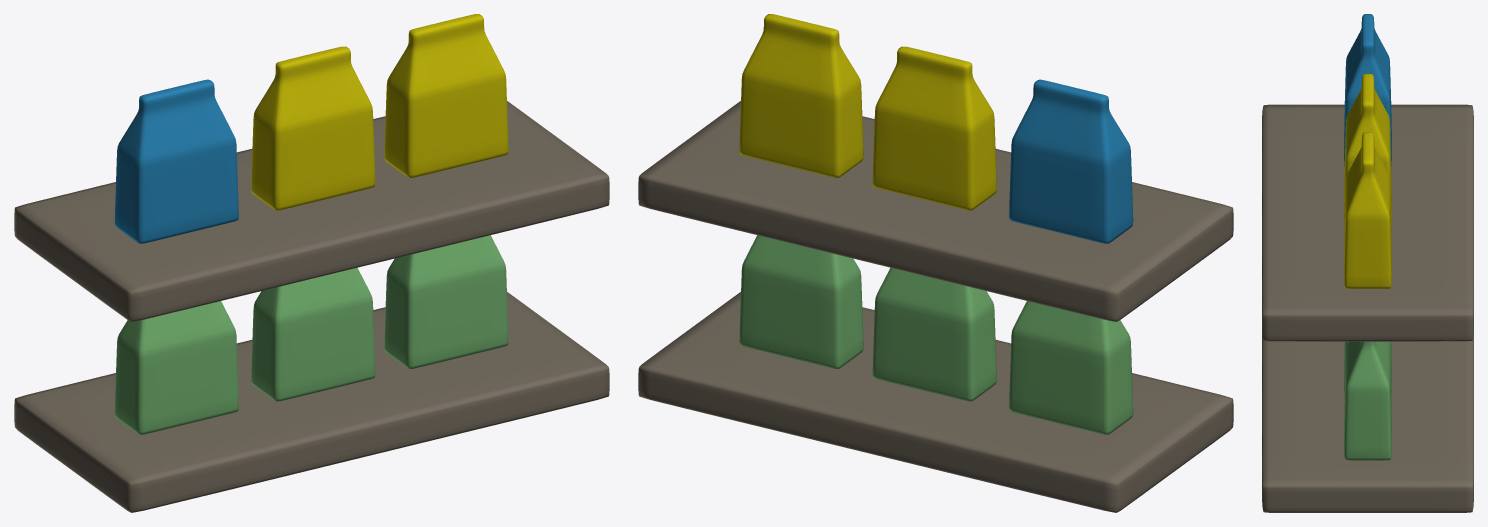
The model's file is snacks1.fbx.
3 renders of one model, left to right at view 1: azimuth 30°, elevation 25°; view 2: azimuth 150°, elevation 25°; view 3: azimuth 270°, elevation 25°, orthographic. The views are drawn at different scales.
Parts seen in each view (by area): view 1: snacks1; view 2: snacks1; view 3: snacks1.
Boxes of the visible parts, <box> form: snacks1: <box>14,14,609,512</box>; snacks1: <box>638,14,1233,512</box>; snacks1: <box>1262,14,1473,512</box>.
Bounding box in the file's own units: 637 × 454 × 271.
